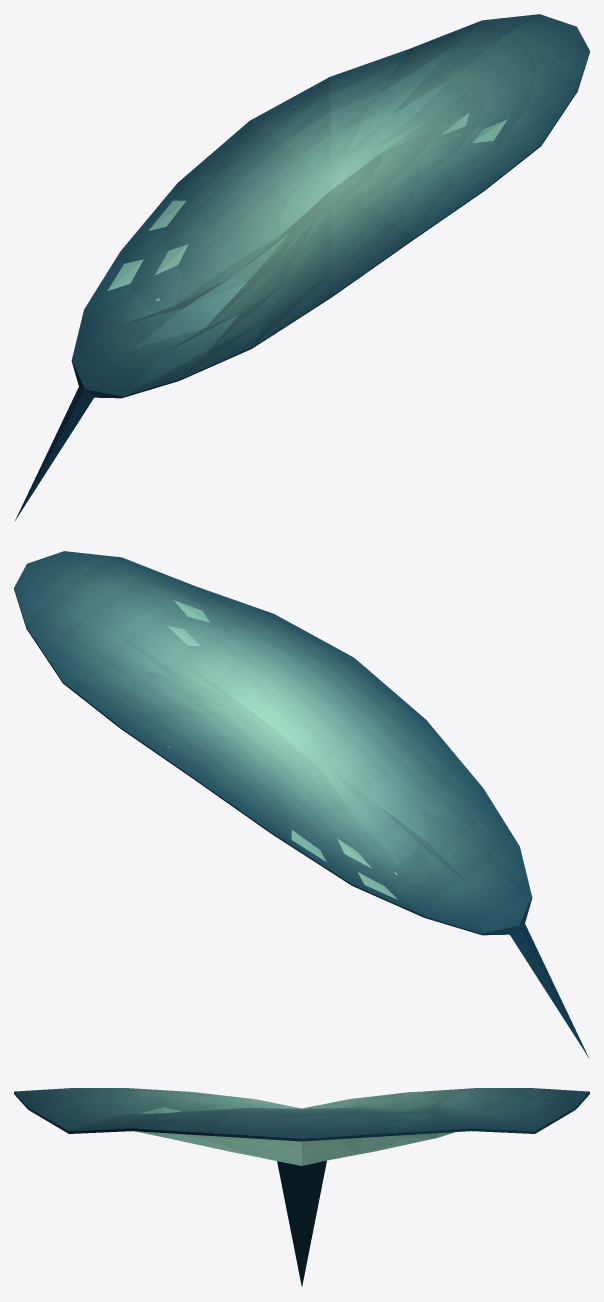
Rendered from plantleaf.fbx.
3 views of the same model, one above another, from view 1: azimuth 30°, elevation 25°; view 2: azimuth 150°, elevation 25°; view 3: azimuth 270°, elevation 25° (orthographic). The views are drawn at different scales.
Parts seen in each view (by area): view 1: plantleaf; view 2: plantleaf; view 3: plantleaf.
Part boxes in pixels (x1,y1,x2,y2): plantleaf: (14, 14, 589, 521); plantleaf: (14, 551, 589, 1058); plantleaf: (14, 1088, 589, 1286).
Size of the model in its own units: 4 by 2.44 by 2.
